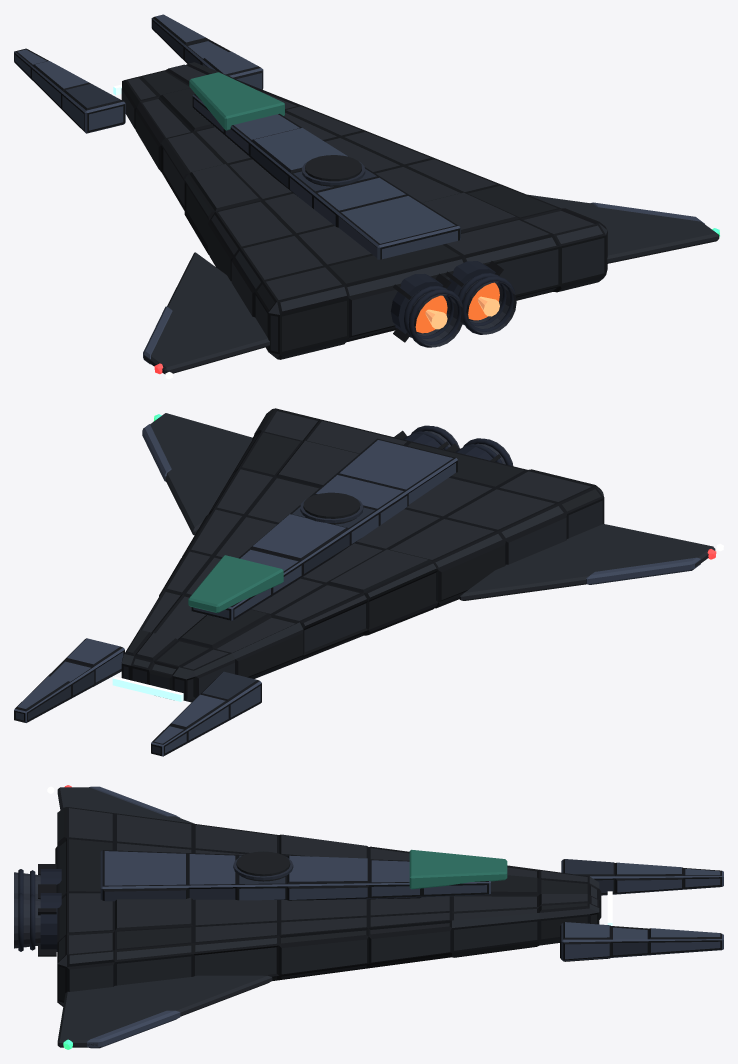
Rendered from phantom.glb.
3 renders of one model, top to bottom at view 1: azimuth 30°, elevation 25°; view 2: azimuth 150°, elevation 25°; view 3: azimuth 270°, elevation 25°, orthographic. The views are drawn at different scales.
Visible parts, largest first — view 1: phantom_mesh; view 2: phantom_mesh; view 3: phantom_mesh.
Boxes of the visible parts, x1,y1,x2,y2 form: phantom_mesh: (14,14,719,374); phantom_mesh: (14,408,716,756); phantom_mesh: (14,785,723,1049).
Size of the model in its own units: 10.17 by 1.46 by 11.79.
